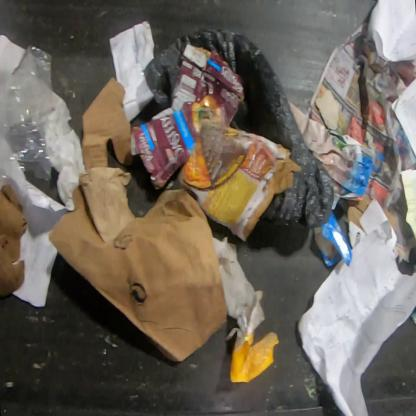cardboard: (48, 75, 229, 363), (131, 44, 257, 191), (165, 135, 302, 243), (313, 208, 352, 269), (346, 193, 374, 248)
soft_plastic: (143, 25, 336, 230), (0, 44, 59, 183)
